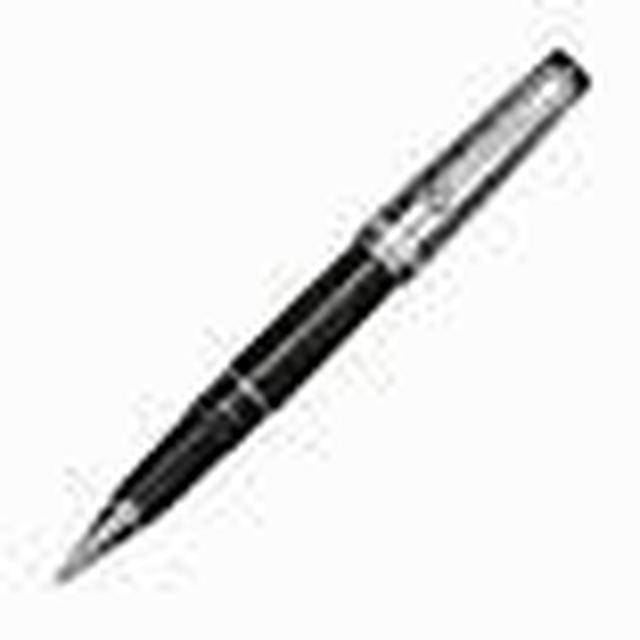pen: (51, 46, 584, 587)
